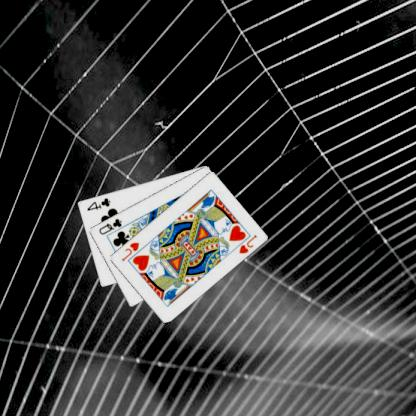4C: (86, 194, 113, 212)
JH: (238, 232, 260, 255), (121, 239, 142, 263)
QC: (98, 216, 124, 236)
